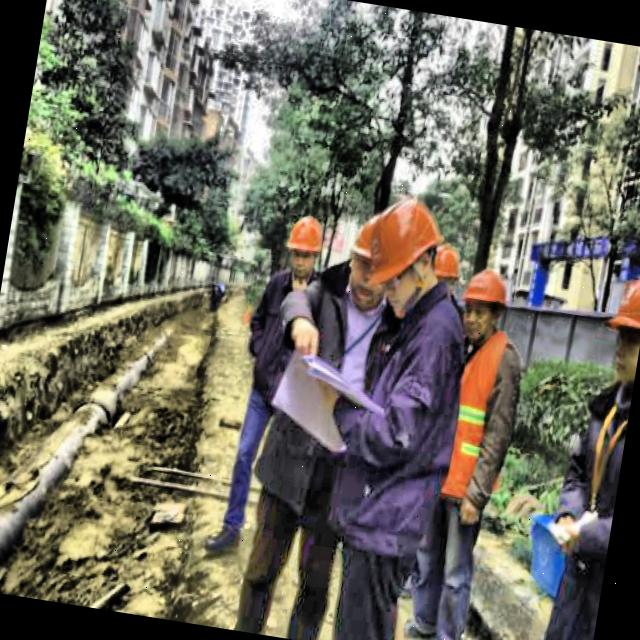helmet: (359, 192, 448, 322), (343, 208, 400, 312), (597, 261, 640, 386), (458, 262, 514, 344), (283, 214, 327, 282), (429, 237, 466, 300)
